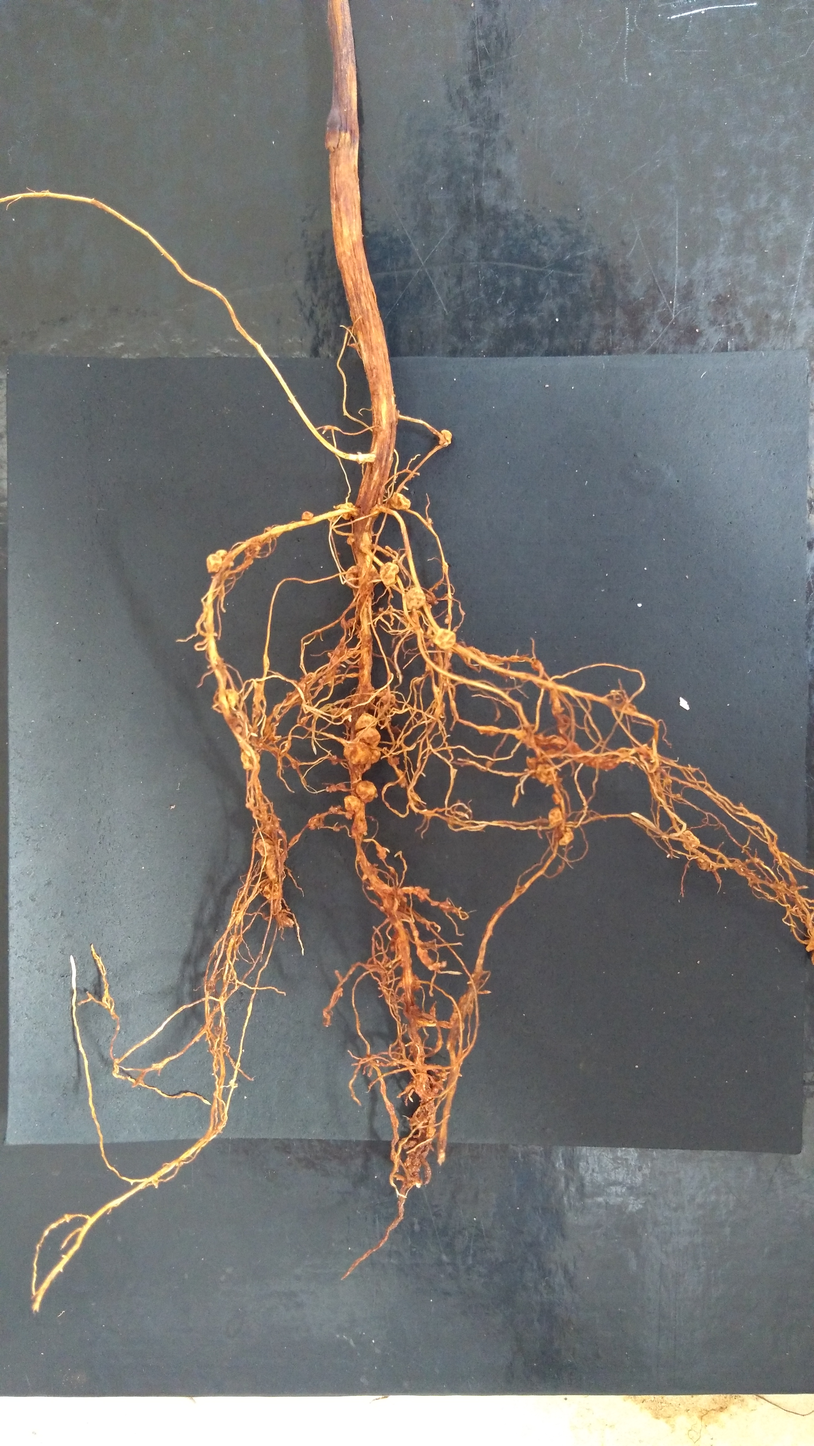nodule: (343, 740, 372, 765), (261, 852, 284, 878), (389, 928, 413, 952), (534, 762, 560, 784), (355, 780, 378, 803), (404, 586, 426, 610), (433, 628, 457, 650), (379, 562, 400, 586), (207, 549, 228, 573), (355, 727, 381, 745), (240, 748, 260, 770), (525, 755, 545, 777), (417, 1098, 434, 1123), (399, 972, 422, 990), (681, 830, 700, 851), (355, 712, 377, 730), (333, 503, 356, 520), (351, 814, 367, 838), (260, 880, 280, 899), (360, 530, 375, 555), (345, 565, 360, 589), (638, 744, 658, 762), (390, 492, 411, 509), (547, 806, 562, 829), (223, 688, 240, 708), (256, 838, 276, 855), (344, 795, 361, 814), (558, 827, 574, 847), (695, 852, 712, 870), (276, 912, 295, 927), (368, 744, 381, 765), (438, 429, 453, 447), (549, 735, 568, 749), (333, 644, 349, 660), (308, 814, 324, 830), (415, 886, 431, 902), (429, 1076, 444, 1093), (542, 747, 565, 758), (368, 563, 380, 584), (477, 725, 499, 736), (776, 880, 791, 896), (428, 960, 448, 971), (380, 693, 397, 705), (530, 659, 546, 671), (400, 1137, 417, 1148), (386, 754, 400, 767), (326, 511, 339, 523), (515, 729, 528, 741), (376, 846, 387, 860), (550, 792, 562, 804), (439, 1066, 448, 1081), (346, 532, 355, 545), (330, 656, 340, 667), (377, 689, 388, 699), (302, 511, 314, 520), (409, 1117, 419, 1127), (424, 662, 434, 672), (245, 797, 254, 808), (233, 725, 243, 733), (330, 755, 338, 765), (349, 343, 360, 350), (662, 778, 673, 785), (329, 806, 339, 813), (338, 782, 346, 789), (400, 896, 408, 903), (414, 678, 421, 686), (425, 517, 432, 524), (362, 873, 368, 880), (325, 785, 330, 793), (330, 785, 336, 791), (444, 617, 449, 624), (377, 607, 383, 612), (318, 678, 323, 683), (380, 906, 385, 911), (676, 793, 681, 797)
